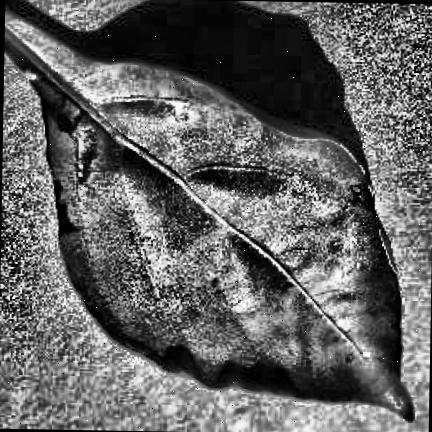leaf: (5, 10, 412, 417)
